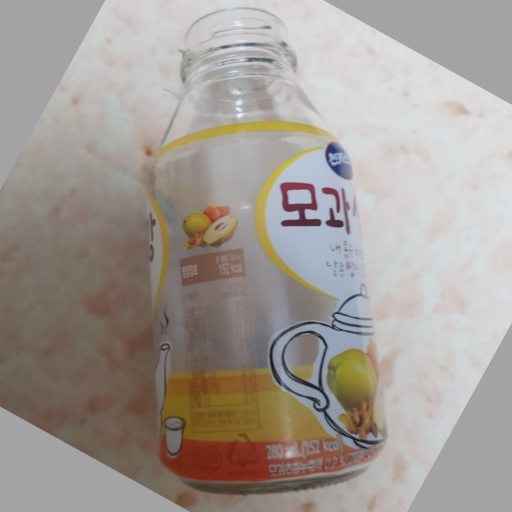Glass_4: (143, 1, 390, 490)
